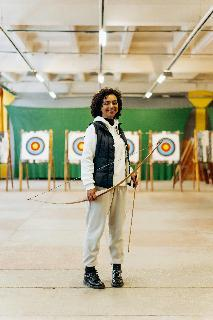person - v3 P: (81, 88, 137, 288)
